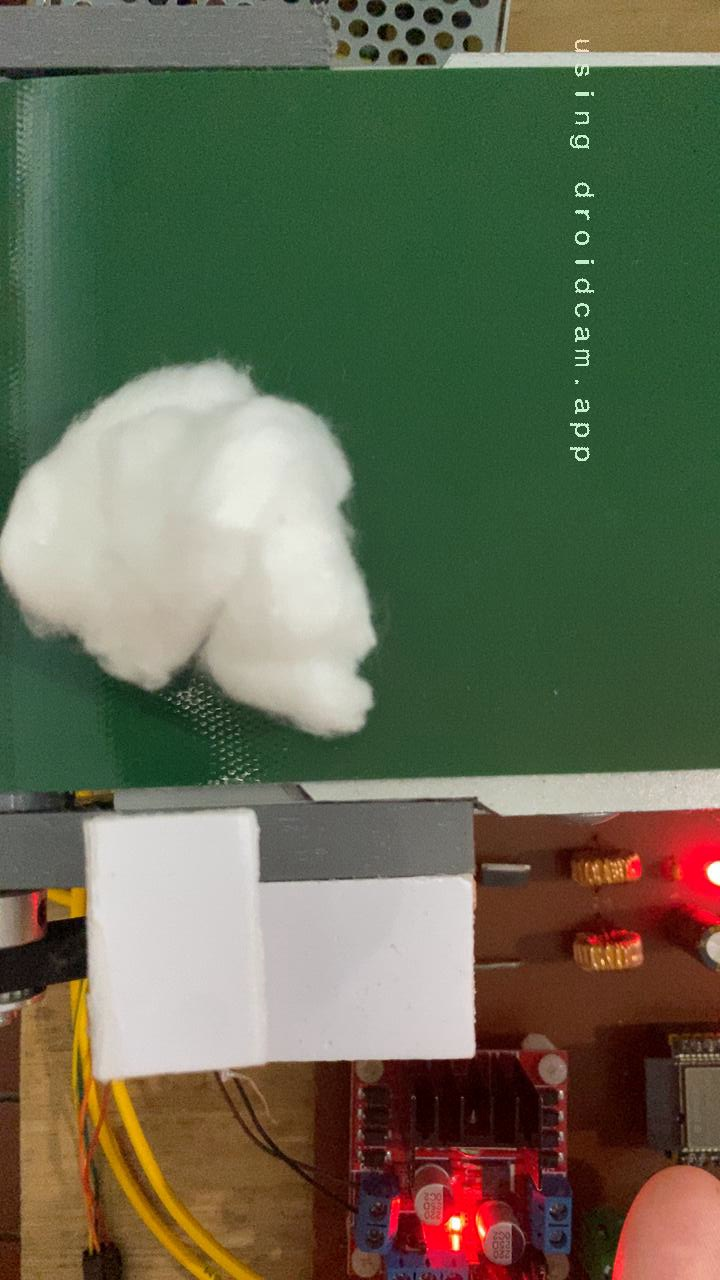cotton: (0, 354, 385, 743)
